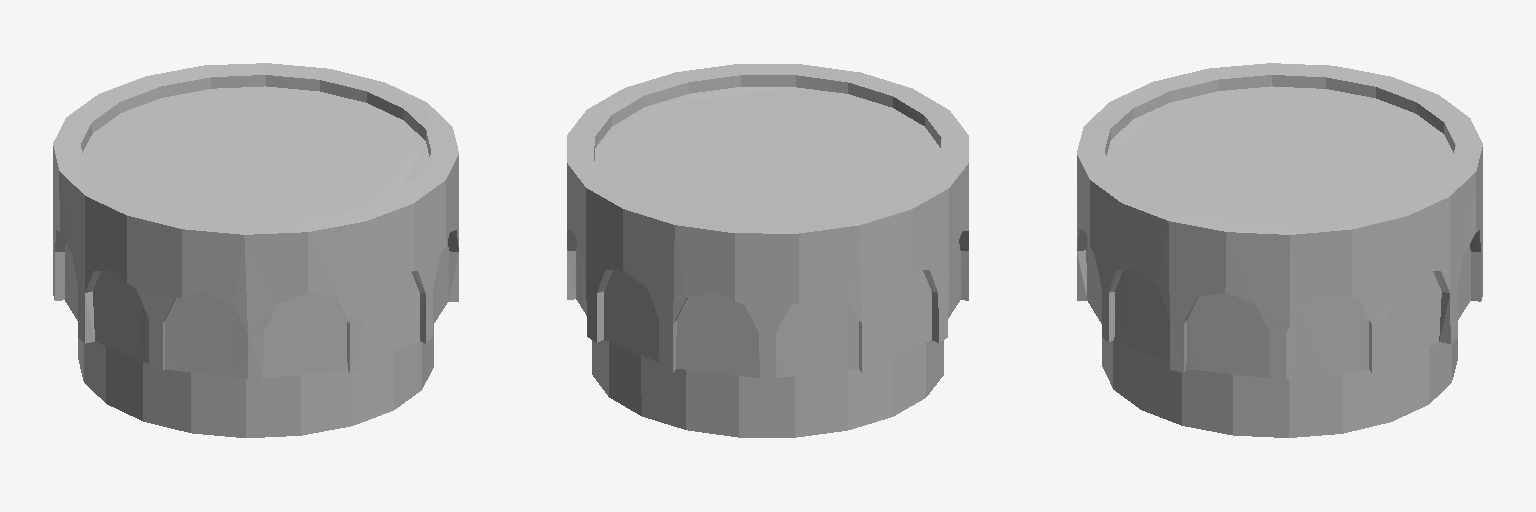
The model's file is table_9.obj.
The picture shows the model from 3 angles: view 1: azimuth 30°, elevation 25°; view 2: azimuth 150°, elevation 25°; view 3: azimuth 270°, elevation 25°; orthographic projection.
Visible parts, largest first — view 1: Mesa1.008_Cylinder.008; view 2: Mesa1.008_Cylinder.008; view 3: Mesa1.008_Cylinder.008.
Part boxes in pixels (x1,y1,x2,y2): Mesa1.008_Cylinder.008: (53, 63, 458, 437); Mesa1.008_Cylinder.008: (567, 64, 968, 437); Mesa1.008_Cylinder.008: (1077, 63, 1482, 437).
Bounding box in the file's own units: 1.2 × 0.6999 × 1.2.